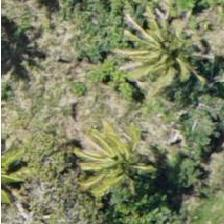coconut_tree: (47, 117, 137, 207), (121, 7, 211, 97)
